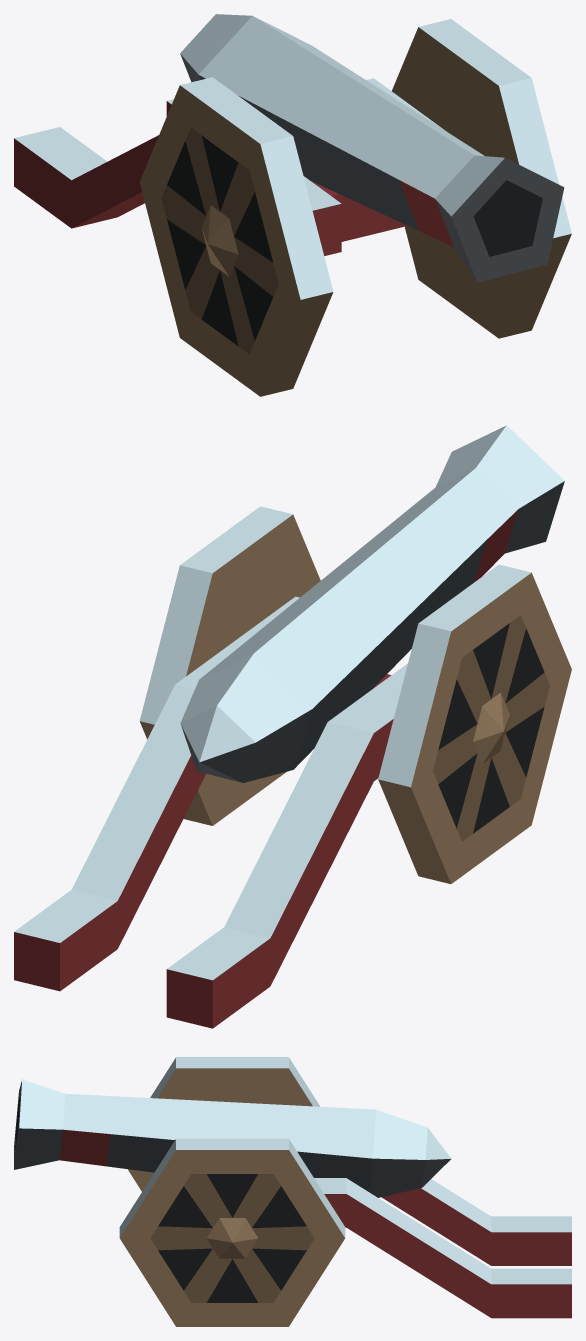
Rendered from SM_Prop_Pirate_Cannon_01_Snow.fbx.
The picture shows the model from 3 angles, top to bottom: view 1: azimuth 30°, elevation 25°; view 2: azimuth 150°, elevation 25°; view 3: azimuth 270°, elevation 25°; orthographic projection. The views are drawn at different scales.
Visible parts, largest first — view 1: SM_Prop_Pirate_Cannon_01_Snow; view 2: SM_Prop_Pirate_Cannon_01_Snow; view 3: SM_Prop_Pirate_Cannon_01_Snow.
Boxes of the visible parts, box(x1,y1,x2,y2) form: SM_Prop_Pirate_Cannon_01_Snow: box(14, 14, 571, 396); SM_Prop_Pirate_Cannon_01_Snow: box(14, 425, 571, 1028); SM_Prop_Pirate_Cannon_01_Snow: box(14, 1057, 571, 1326).
Bounding box in the file's own units: 62.29 × 58.68 × 145.
Materials: 1 (1 with a texture image).
